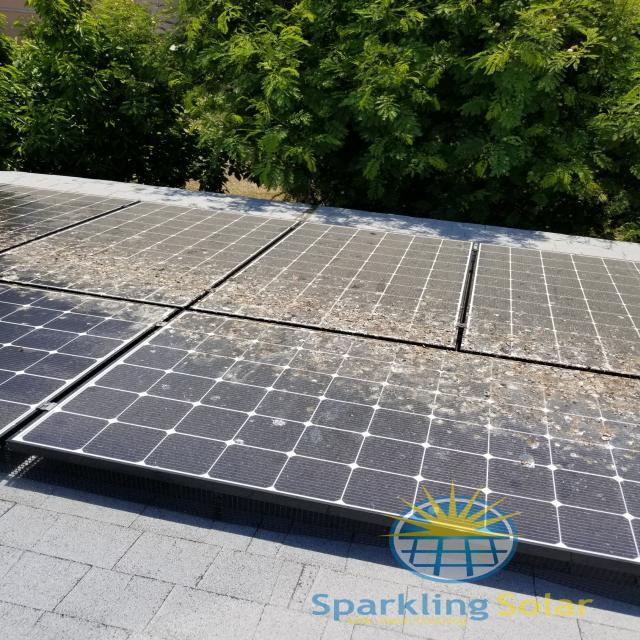faulty: (0, 186, 640, 559)
